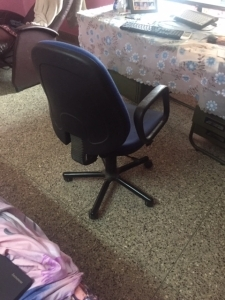chair: (30, 40, 170, 221)
